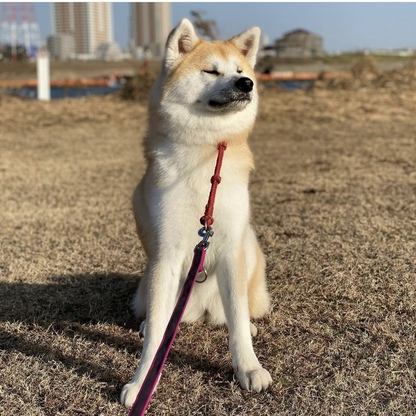akita: (115, 13, 284, 416)
